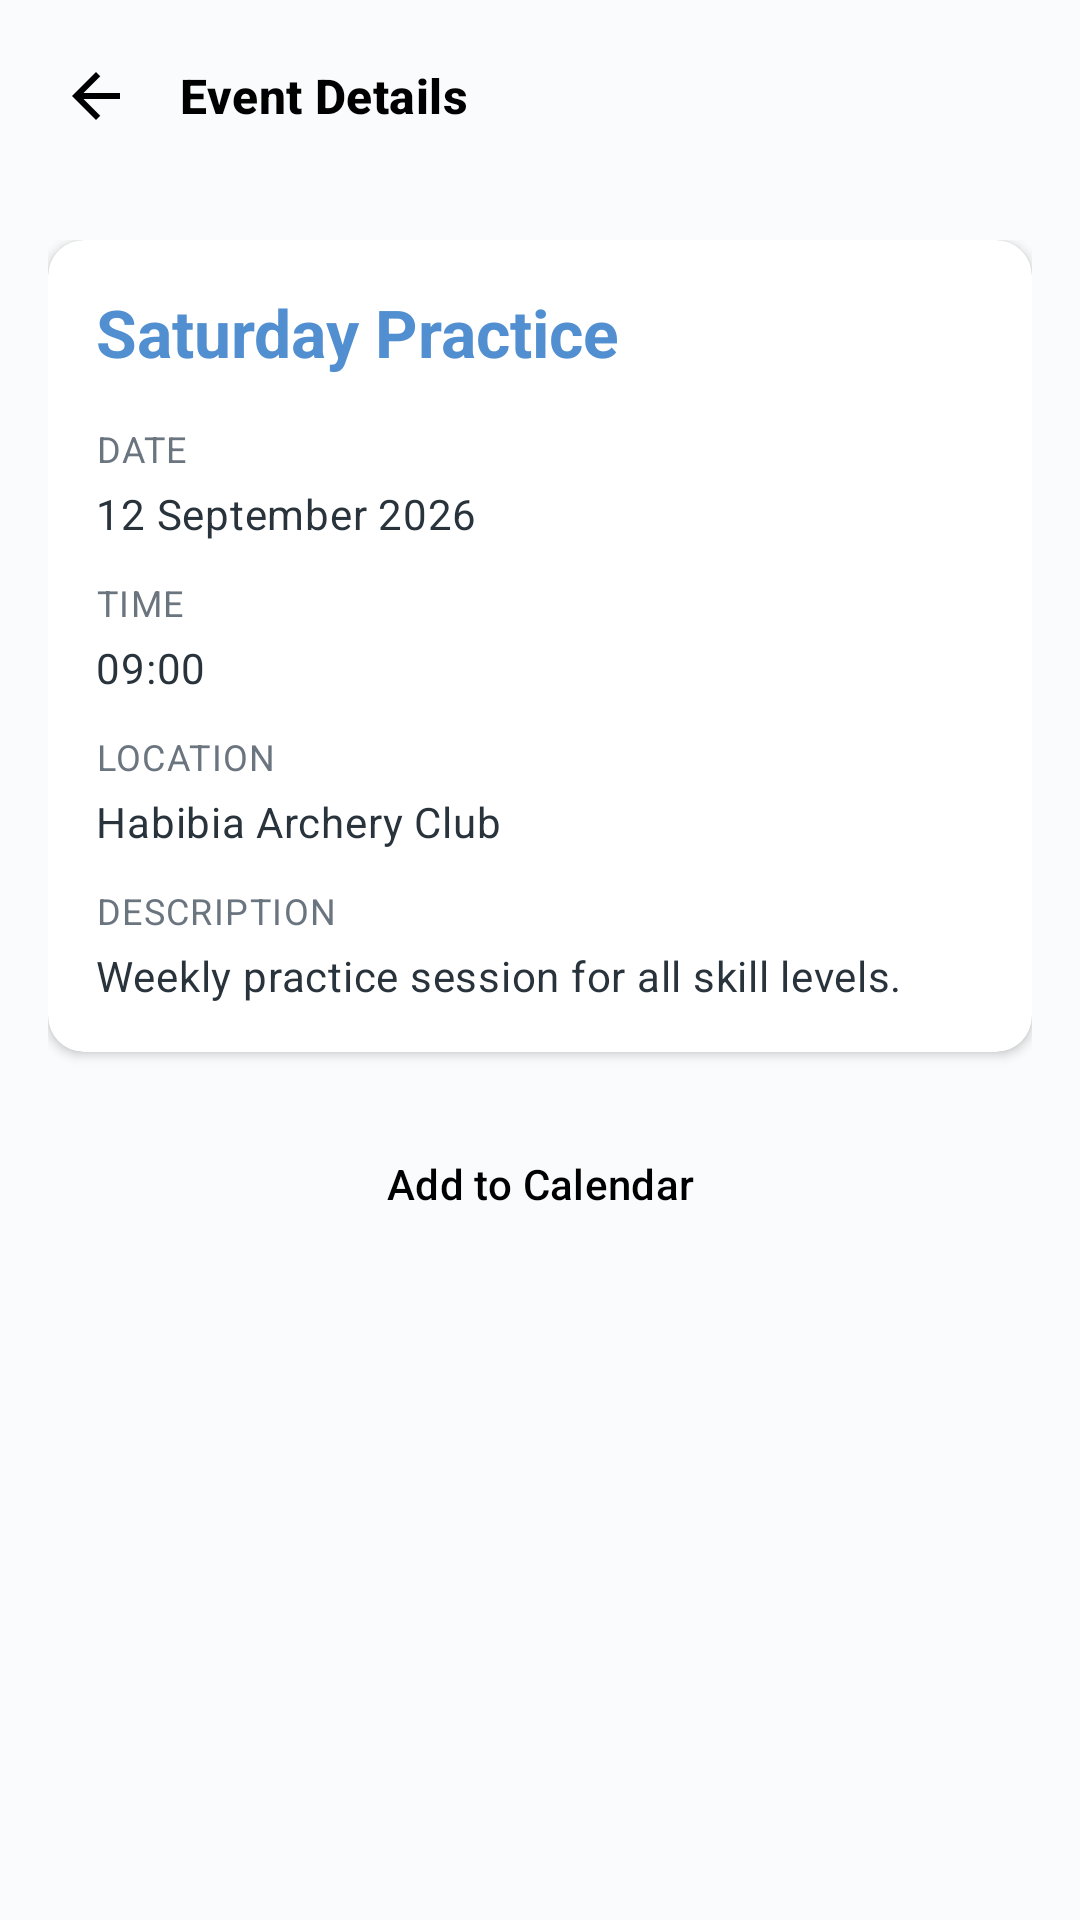

Icons on this 1080×1920 Android screen, each with its box as BBox(x1, y1, x2, y2):
Back: BBox(72, 72, 120, 120)
